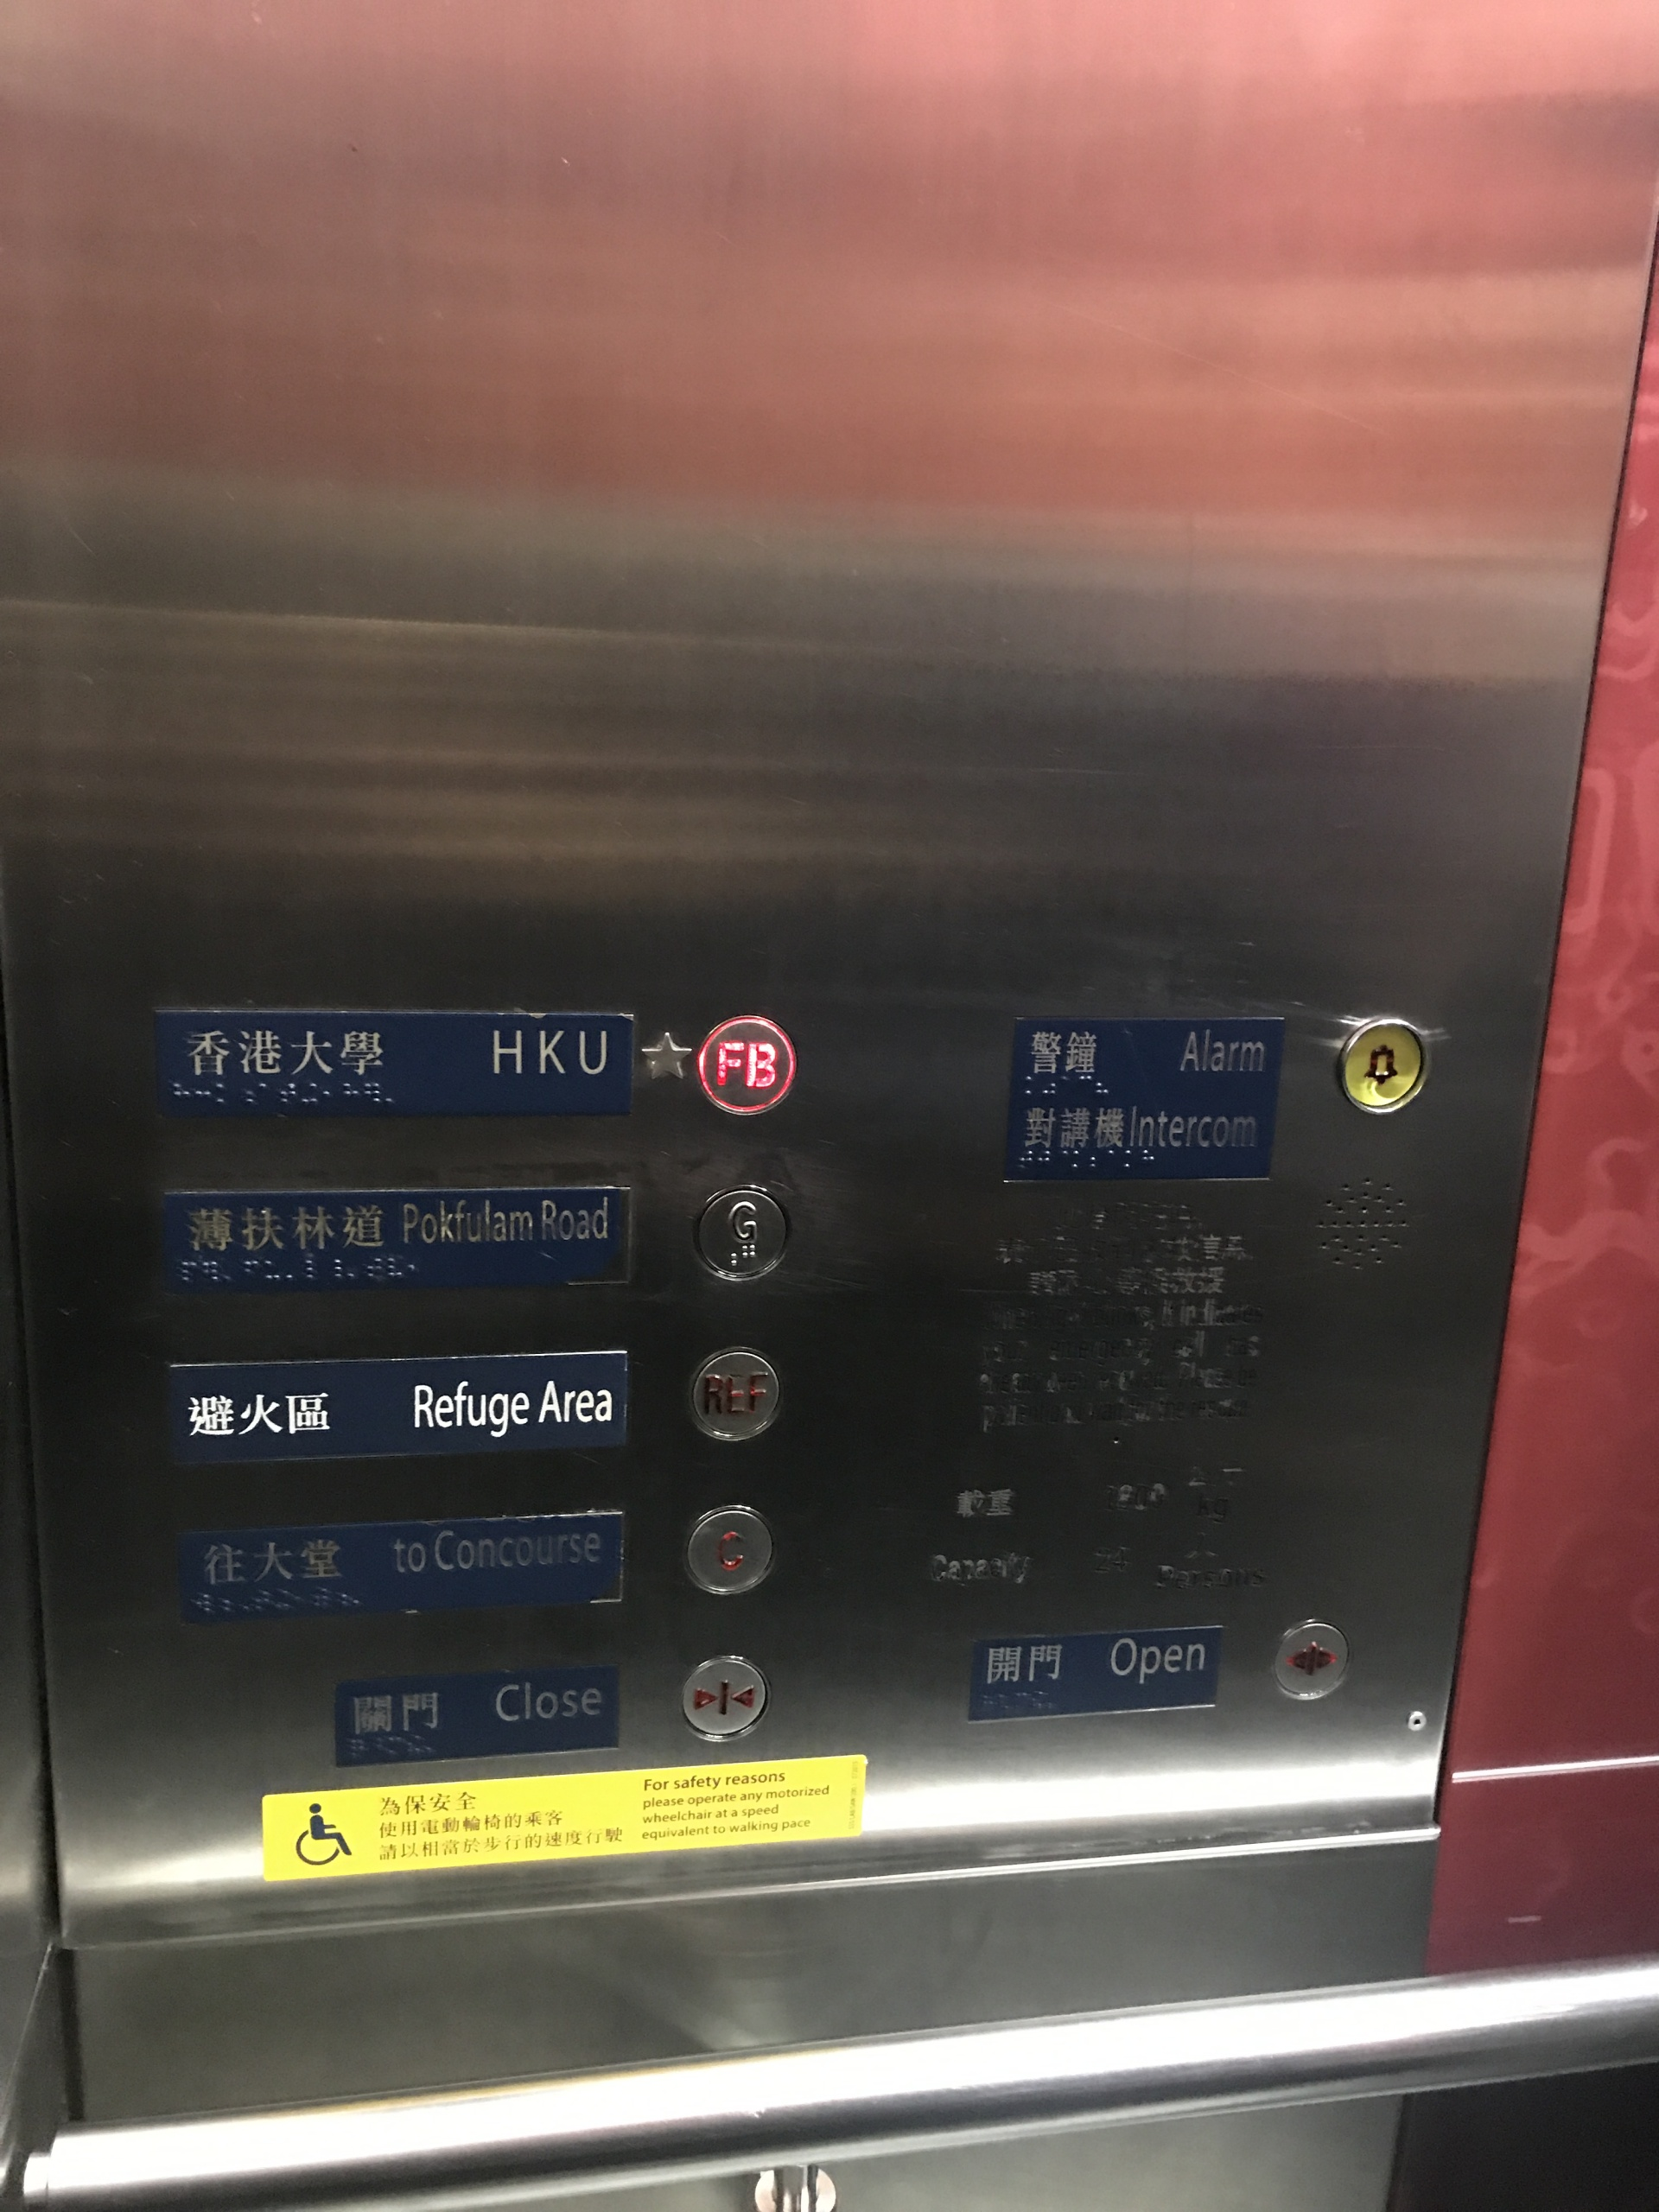C: (680, 1500, 779, 1602)
FB: (694, 1010, 802, 1118)
G: (690, 1177, 798, 1287)
REF: (683, 1339, 786, 1446)
alarm: (1335, 1014, 1429, 1116)
close: (673, 1648, 770, 1745)
open: (1263, 1615, 1356, 1705)
